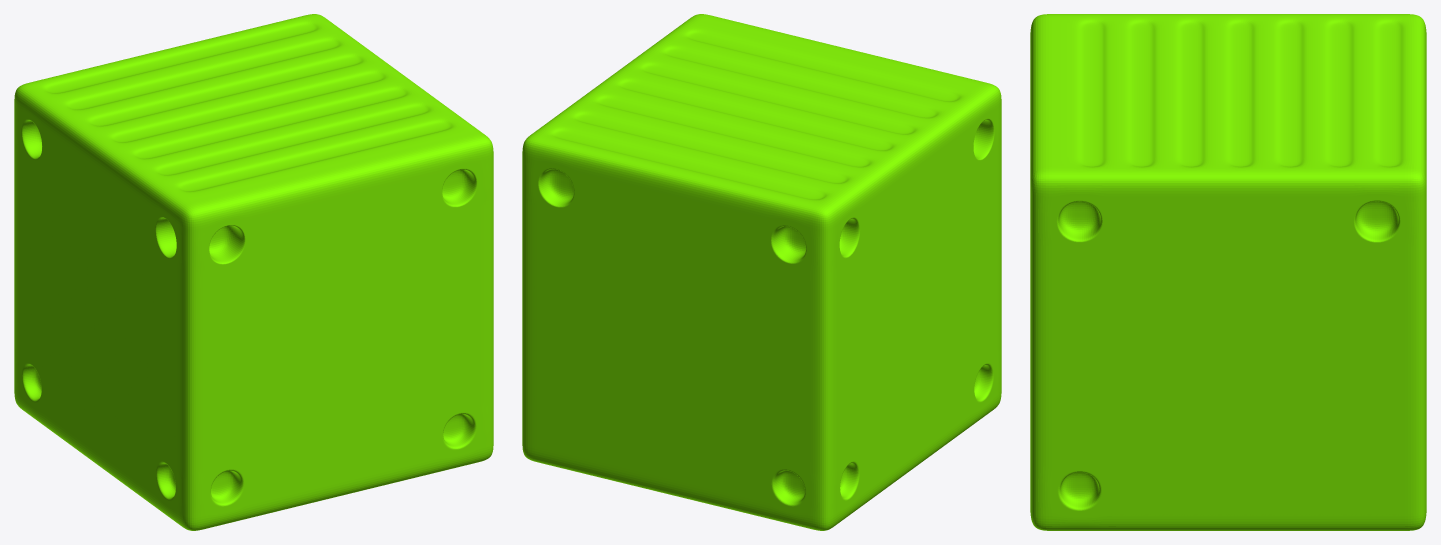
3 views of the same model, side by side, from view 1: azimuth 30°, elevation 25°; view 2: azimuth 150°, elevation 25°; view 3: azimuth 270°, elevation 25° (orthographic). The views are drawn at different scales.
Visible parts, largest first — view 1: Cube 1; view 2: Cube 1; view 3: Cube 1.
Boxes of the visible parts, x1=… form: Cube 1: x1=14, y1=14, x2=493, y2=530; Cube 1: x1=522, y1=14, x2=1001, y2=530; Cube 1: x1=1030, y1=14, x2=1426, y2=530.
Size of the model in its own units: 400 by 400 by 400.
